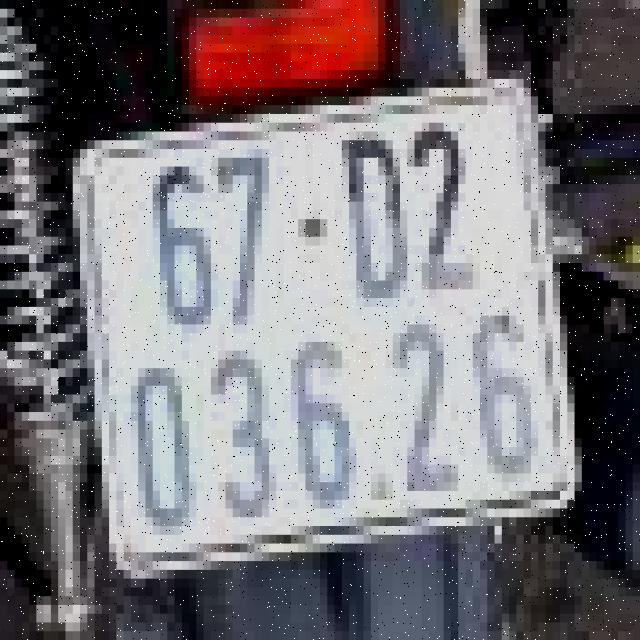0: (124, 355, 204, 539)
2: (404, 118, 484, 294), (389, 320, 469, 495)
3: (207, 338, 280, 530)
6: (458, 298, 553, 482), (134, 153, 214, 329), (288, 329, 368, 504)
7: (215, 136, 287, 337)
D: (327, 123, 415, 298)
